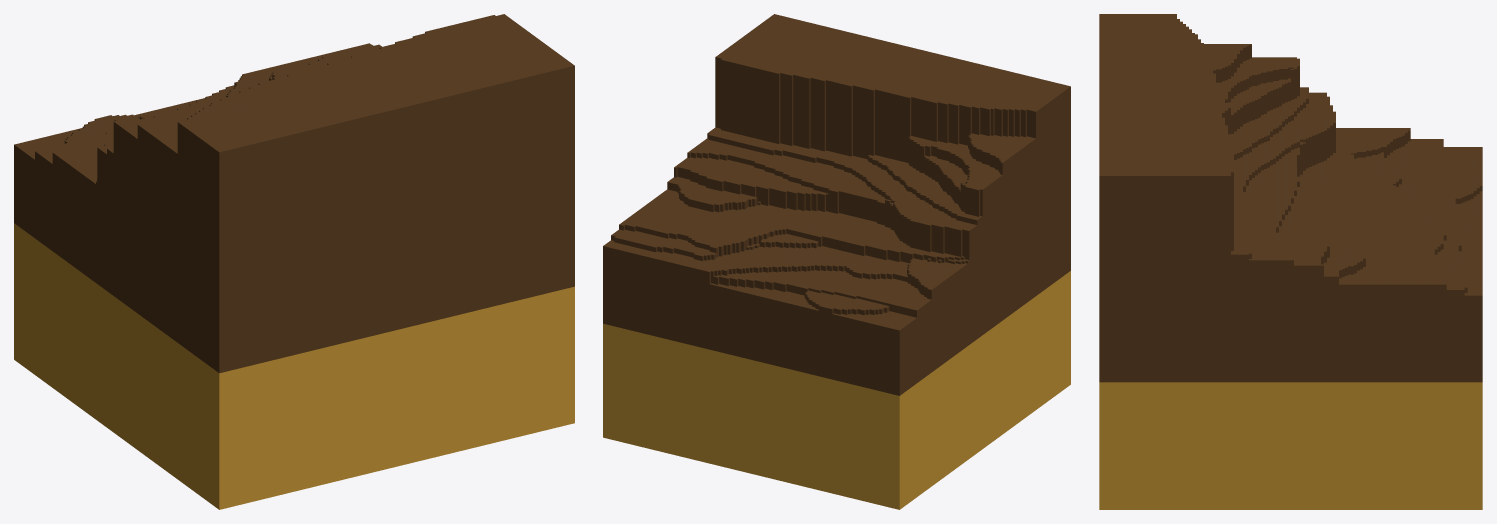
3 renders of one model, left to right at view 1: azimuth 30°, elevation 25°; view 2: azimuth 150°, elevation 25°; view 3: azimuth 270°, elevation 25°, orthographic. The views are drawn at different scales.
Visible parts, largest first — view 1: 4O; view 2: 4O; view 3: 4O.
Boxes of the visible parts, x1,y1,x2,y2 form: 4O: (14, 14, 574, 509); 4O: (603, 14, 1070, 509); 4O: (1099, 14, 1482, 509).
Size of the model in its own units: 12.8 by 12.3 by 12.8.
Materials: 1 (1 with a texture image).
